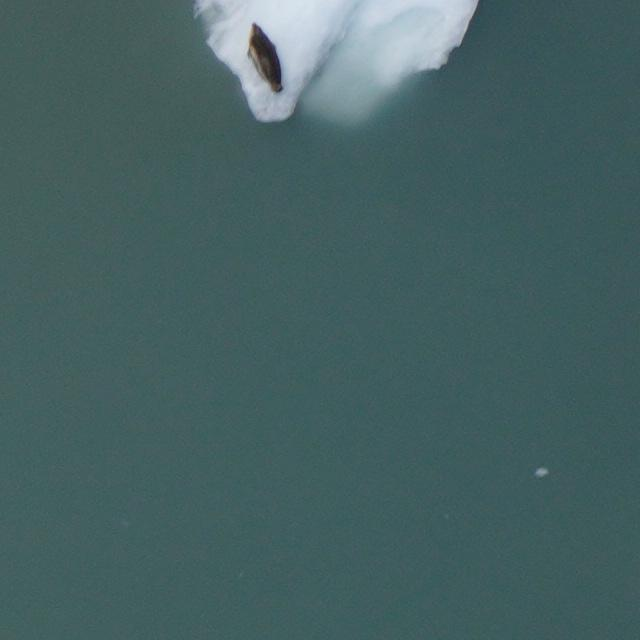seal: (242, 18, 287, 100)
